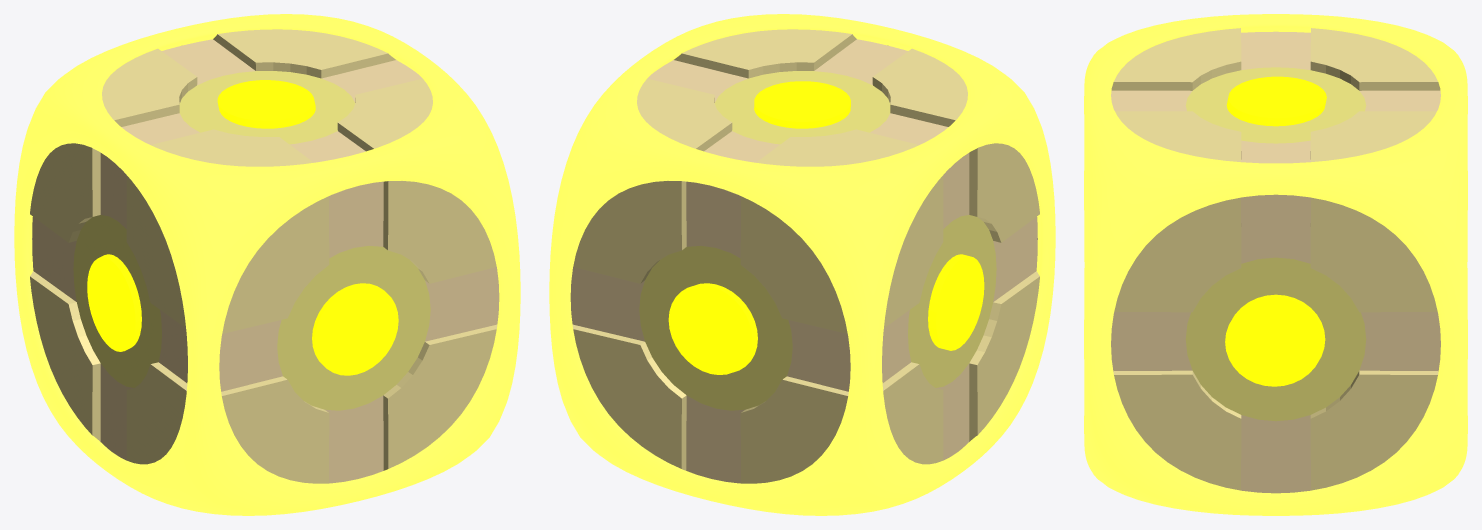
3 views of the same model, side by side, from view 1: azimuth 30°, elevation 25°; view 2: azimuth 150°, elevation 25°; view 3: azimuth 270°, elevation 25° (orthographic).
Parts seen in each view (by area): view 1: Cube.001, 円, 円.002, 円.001, 円.003; view 2: Cube.001, 円, 円.002, 円.001, 円.003; view 3: Cube.001, 円, 円.002, 円.001, 円.003.
Boxes of the visible parts, x1,y1,x2,y2 form: Cube.001: [14, 14, 520, 515]; 円: [30, 29, 497, 483]; 円.002: [32, 39, 499, 483]; 円.001: [73, 71, 430, 410]; 円.003: [87, 80, 398, 375]; Cube.001: [549, 14, 1055, 515]; 円: [572, 29, 1039, 483]; 円.002: [570, 39, 1037, 483]; 円.001: [639, 71, 996, 410]; 円.003: [668, 81, 984, 374]; Cube.001: [1084, 14, 1467, 515]; 円: [1111, 28, 1440, 490]; 円.002: [1111, 31, 1440, 493]; 円.001: [1185, 67, 1366, 421]; 円.003: [1225, 76, 1326, 386].
Size of the model in its own units: 203 by 203 by 203.
